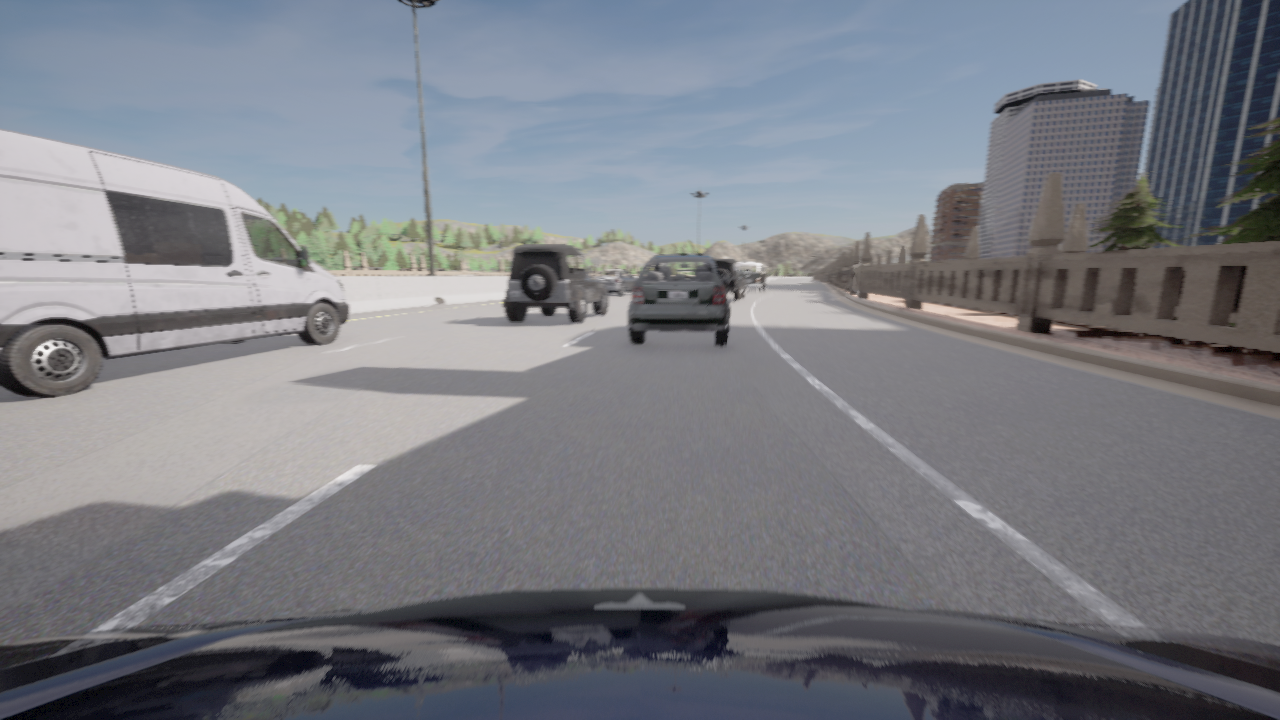cyclist: (0, 588, 1279, 719), (628, 255, 729, 345), (503, 245, 607, 323), (713, 258, 746, 301), (594, 270, 636, 295), (738, 262, 768, 292), (737, 261, 740, 265)
